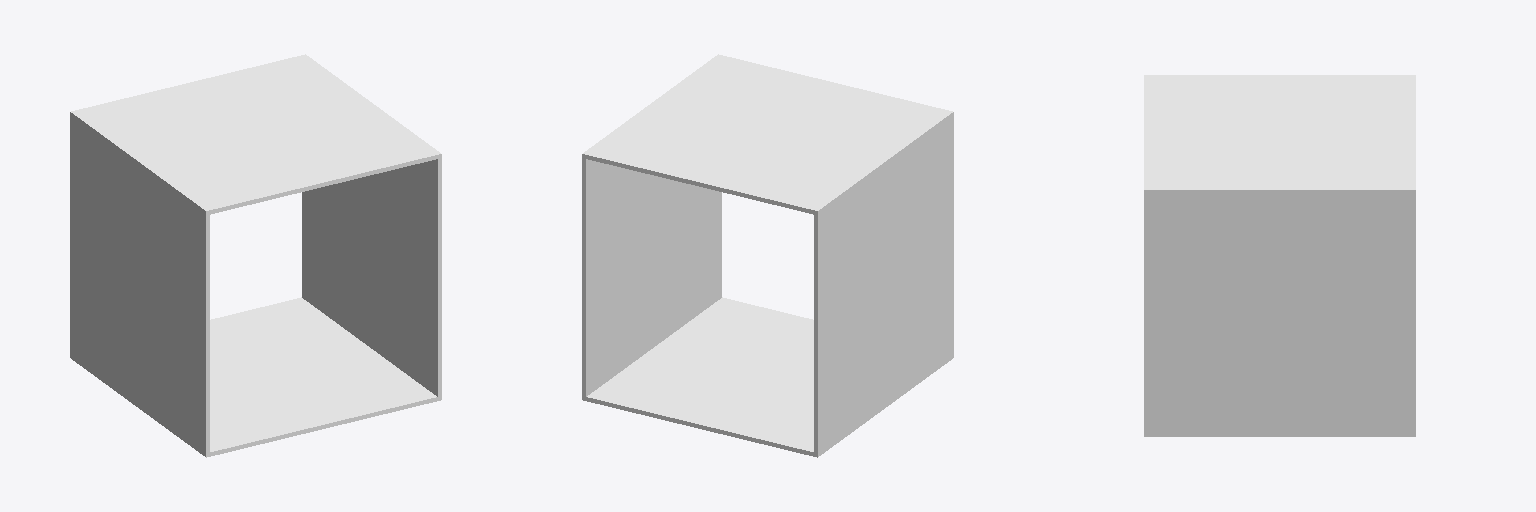
The model's file is Hollow.obj.
3 views of the same model, side by side, from view 1: azimuth 30°, elevation 25°; view 2: azimuth 150°, elevation 25°; view 3: azimuth 270°, elevation 25° (orthographic).
Parts seen in each view (by area): view 1: object 1; view 2: object 1; view 3: object 1.
Part boxes in pixels (left/top/right/bottom): object 1: left=70, top=54, right=441, bottom=457; object 1: left=582, top=54, right=953, bottom=457; object 1: left=1144, top=75, right=1415, bottom=436.
Bounding box in the file's own units: 11.5 × 11.5 × 11.5.